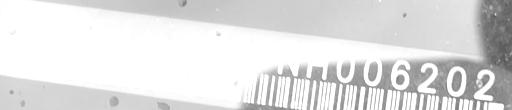letter: (50, 14, 86, 49), (304, 44, 330, 82), (194, 31, 220, 69), (222, 34, 248, 72), (276, 43, 302, 77), (19, 12, 45, 45), (472, 65, 496, 100), (142, 27, 166, 62), (112, 24, 136, 55), (390, 57, 412, 90), (416, 60, 438, 93), (445, 65, 467, 96), (252, 39, 272, 73), (334, 51, 354, 84), (169, 31, 191, 61), (362, 55, 382, 86), (88, 21, 108, 52)
